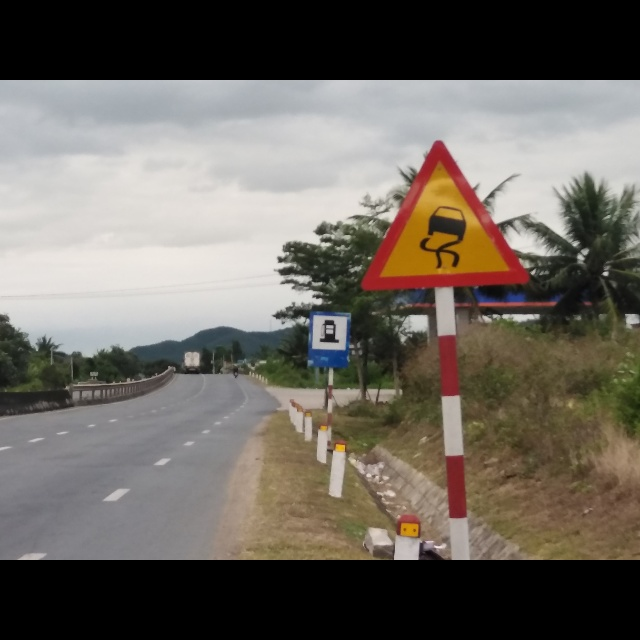Đường trơn trượt: (355, 138, 531, 289)
